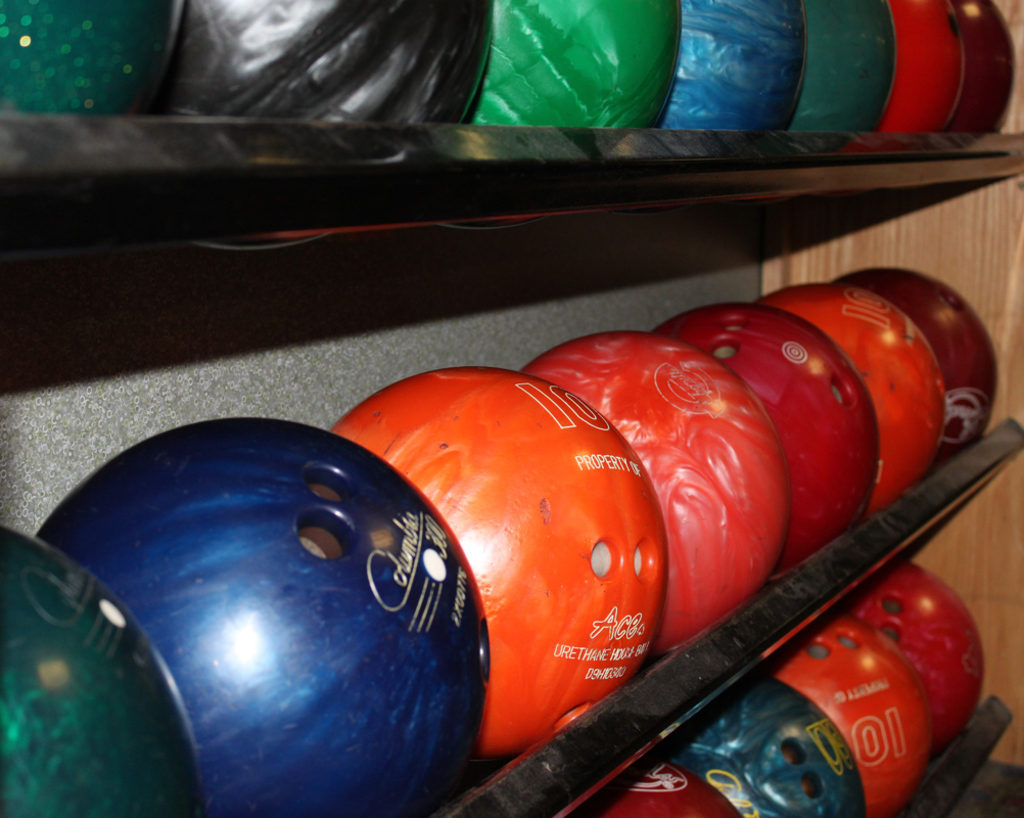Ball: (0, 263, 999, 817), (4, 0, 1012, 251)
